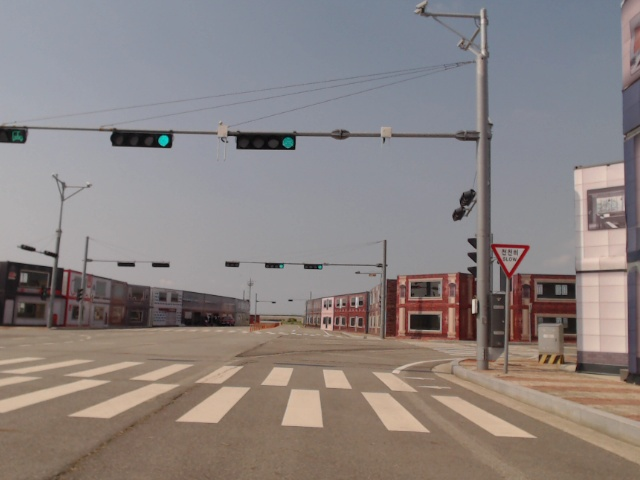straight_green_4: (237, 131, 296, 151), (110, 130, 171, 149), (304, 262, 324, 270), (264, 262, 284, 269)
